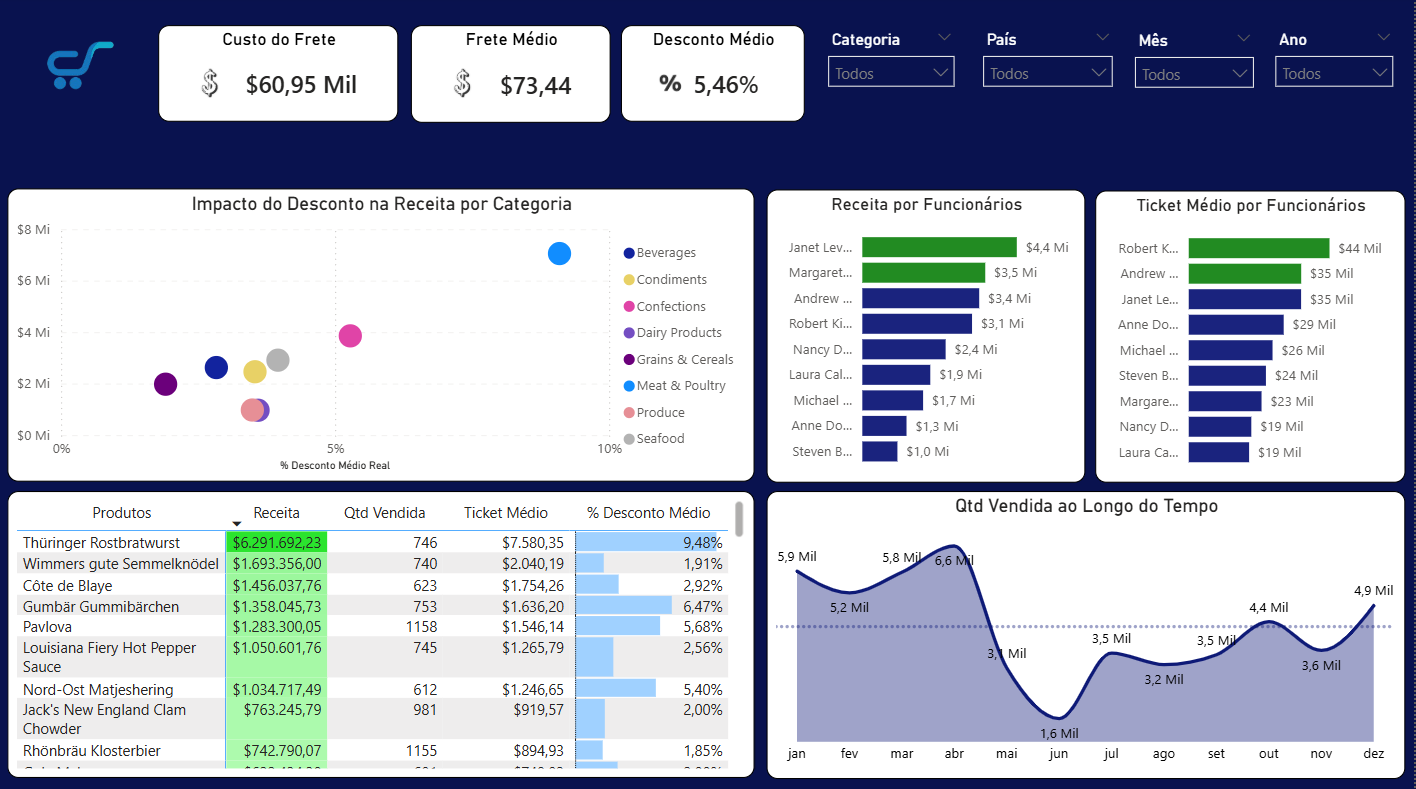

This screenshot's page, from the dashboard's own definition file:
{"tool":"powerbi","page":{"name":"Visão Comercial","canvas":[1280,720],"ordinal":1},"visuals":[{"type":"pivotTable","fields":{"Rows":["dim_products.productName"],"Values":["Medidas.Receita Total c/desconto","Medidas.Qtd Vendida","Medidas.Ticket Médio","Medidas.% Desconto Médio Real"]},"box":[7.7,446.5,675.6,260],"z":0},{"type":"scatterChart","title":"Impacto do Desconto na Receita por Categoria","fields":{"Series":["categories.categoryName"],"X":["Medidas.% Desconto Médio Real"],"Y":["Medidas.Receita Total c/desconto"]},"box":[7.8,172.8,675.7,265],"z":1000},{"type":"image","box":[16.4,25.1,115,73.5],"z":2000},{"type":"lineChart","title":"Qtd Vendida ao Longo do Tempo","fields":{"Category":["d_calendario.Mês Abrev"],"Y":["Medidas.Qtd Vendida"]},"box":[694.1,447.1,577.7,260.2],"z":3000},{"type":"barChart","title":"Receita por Funcionários","fields":{"Category":[" employees.employeeName"],"Y":["Medidas.Receita Total c/desconto"]},"box":[694.2,173.8,288.3,265],"z":4000},{"type":"slicer","fields":{"Values":["d_calendario.Ano"]},"box":[1145.1,25.6,126.8,57.3],"z":5000},{"type":"slicer","fields":{"Values":["categories.categoryName"]},"box":[740.1,25.1,134,58.3],"z":6000},{"type":"slicer","fields":{"Values":["customers.country"]},"box":[880.9,25.1,136.9,58.3],"z":7000},{"type":"slicer","fields":{"Values":["d_calendario.Mês"]},"box":[1017.7,26.1,127.2,57.3],"z":8000},{"type":"cardVisual","title":"Desconto Médio","fields":{"Data":["Medidas.% Desconto Médio Real"]},"box":[562.6,25.1,166.2,88],"z":9000},{"type":"cardVisual","title":"Custo do Frete","fields":{"Data":["Medidas.Frete Total"]},"box":[144,25.1,217.5,88],"z":10000},{"type":"cardVisual","title":"Frete Médio","fields":{"Data":["Medidas.Frete Médio"]},"box":[372.2,25.1,180.7,88.9],"z":11000},{"type":"barChart","title":"Ticket Médio por Funcionários","fields":{"Category":[" employees.employeeName"],"Y":["Medidas.Ticket Médio"]},"box":[991.7,174.9,280.3,264.8],"z":12000}]}

Visuals, with their boxes in screenshot pixels (x1, y1, x2, y2), scaled from the page's 1280x720 canvas onto the 1416x789 screenshot:
pivotTable - dim_products.productName x Medidas.Receita Total c/desconto: [left=9, top=489, right=756, bottom=774]
"Impacto do Desconto na Receita por Categoria" scatterChart: [left=9, top=189, right=756, bottom=480]
image: [left=18, top=28, right=145, bottom=108]
"Qtd Vendida ao Longo do Tempo" lineChart: [left=768, top=490, right=1407, bottom=775]
"Receita por Funcionários" barChart: [left=768, top=190, right=1087, bottom=481]
slicer - d_calendario.Ano: [left=1267, top=28, right=1407, bottom=91]
slicer - categories.categoryName: [left=819, top=28, right=967, bottom=91]
slicer - customers.country: [left=974, top=28, right=1126, bottom=91]
slicer - d_calendario.Mês: [left=1126, top=29, right=1267, bottom=91]
"Desconto Médio" cardVisual: [left=622, top=28, right=806, bottom=124]
"Custo do Frete" cardVisual: [left=159, top=28, right=400, bottom=124]
"Frete Médio" cardVisual: [left=412, top=28, right=612, bottom=125]
"Ticket Médio por Funcionários" barChart: [left=1097, top=192, right=1407, bottom=482]
